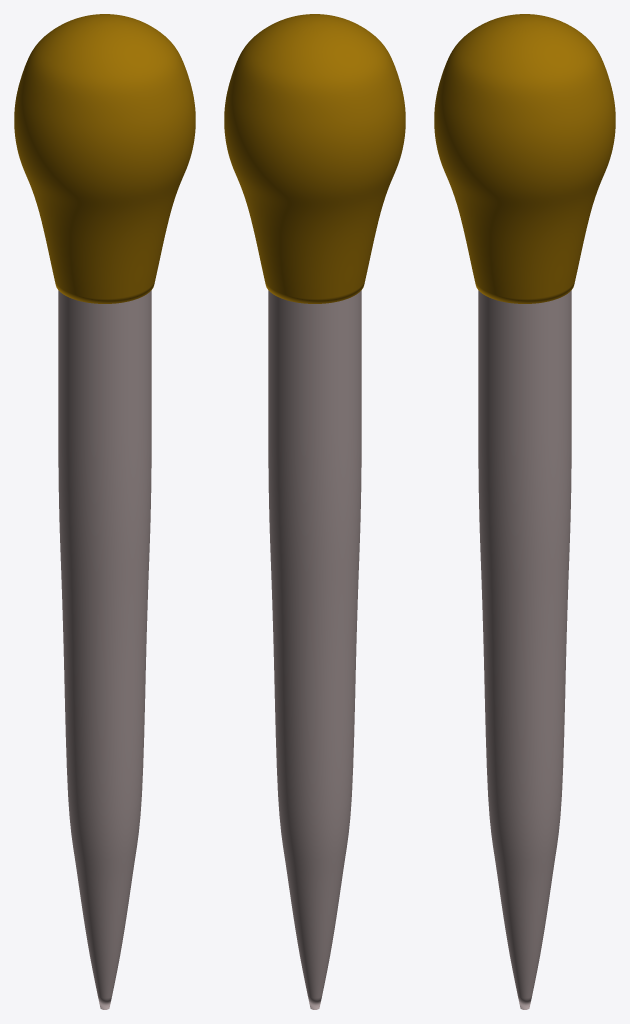
The model's file is pipetpipette.glb.
3 renders of one model, left to right at view 1: azimuth 30°, elevation 25°; view 2: azimuth 150°, elevation 25°; view 3: azimuth 270°, elevation 25°, orthographic.
Visible parts, largest first — view 1: Cylinder, Sphere; view 2: Cylinder, Sphere; view 3: Cylinder, Sphere.
Boxes of the visible parts, <box> form: Cylinder: <box>58,290,151,1009</box>; Sphere: <box>14,14,195,303</box>; Cylinder: <box>268,290,361,1009</box>; Sphere: <box>224,14,405,303</box>; Cylinder: <box>478,290,571,1009</box>; Sphere: <box>434,14,615,303</box>.
Bounding box in the file's own units: 1.02 × 6.08 × 1.02.
